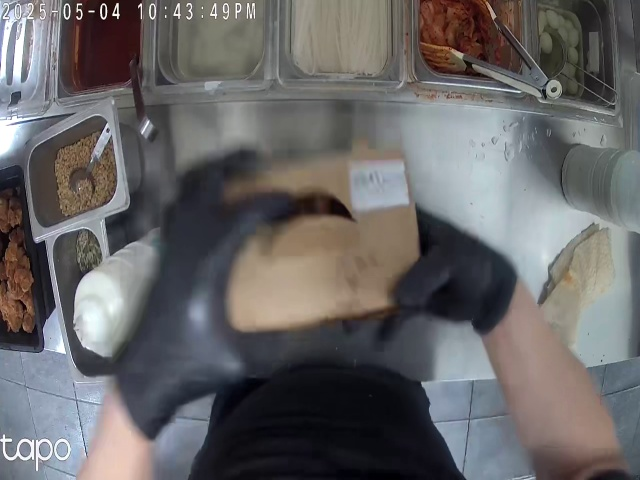closed delivery box: (210, 156, 399, 319)
hand: (138, 153, 270, 408), (409, 204, 514, 332)
